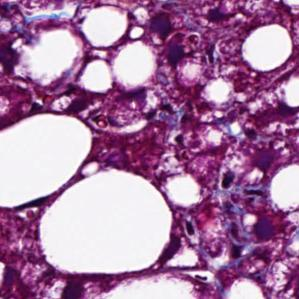inflammation: (144, 10, 191, 68), (199, 2, 255, 29), (221, 218, 252, 264), (213, 166, 241, 194)
